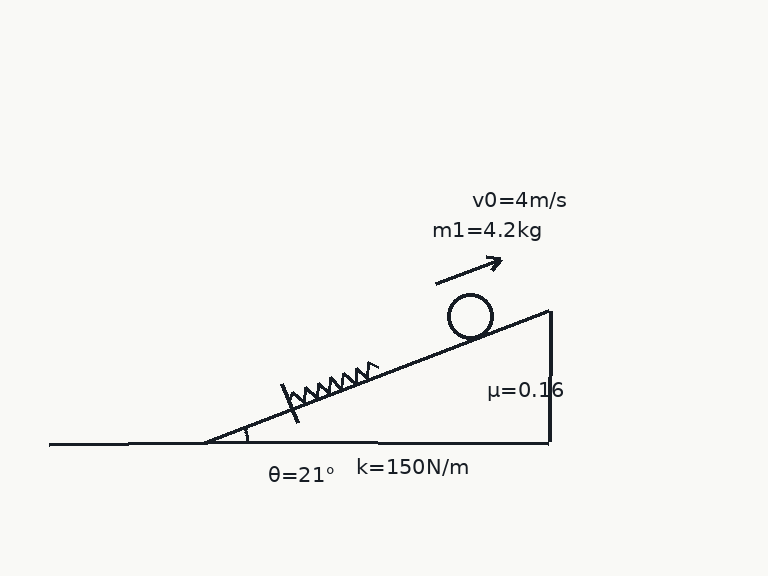ball: (445, 291, 495, 341)
ramp: (205, 309, 550, 444)
spring: (287, 361, 380, 405)
